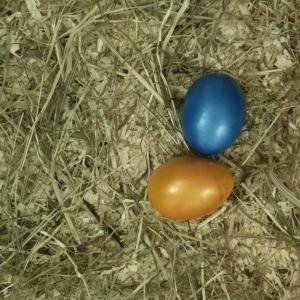egg: (148, 157, 234, 219), (183, 74, 247, 156)
